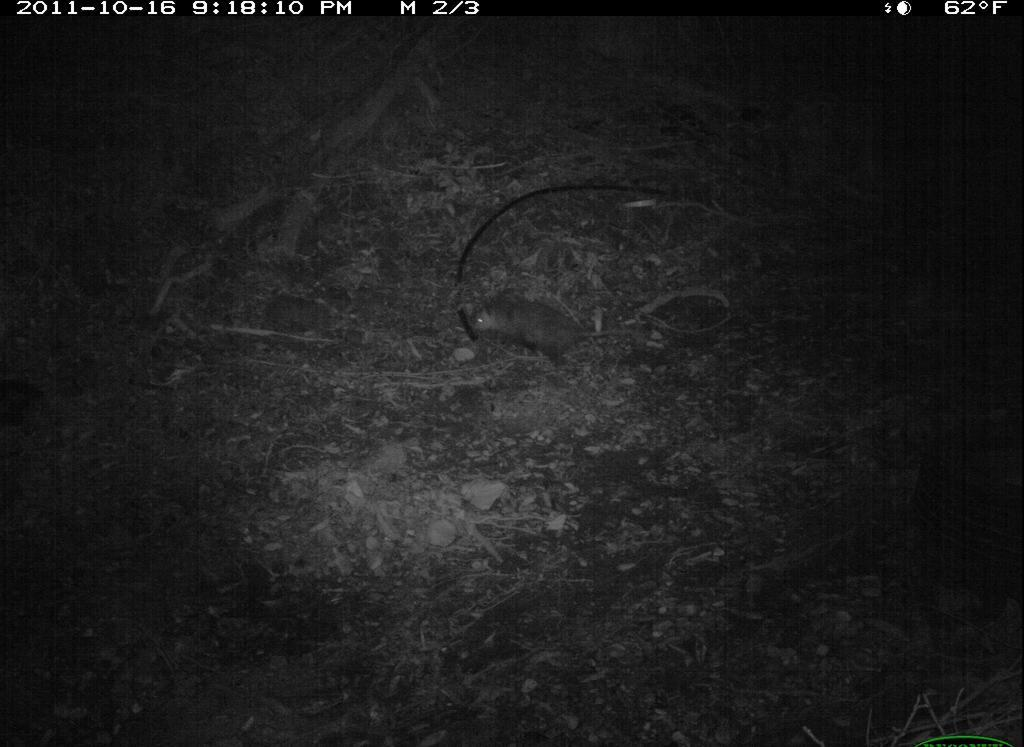opossum: (468, 289, 651, 377)
